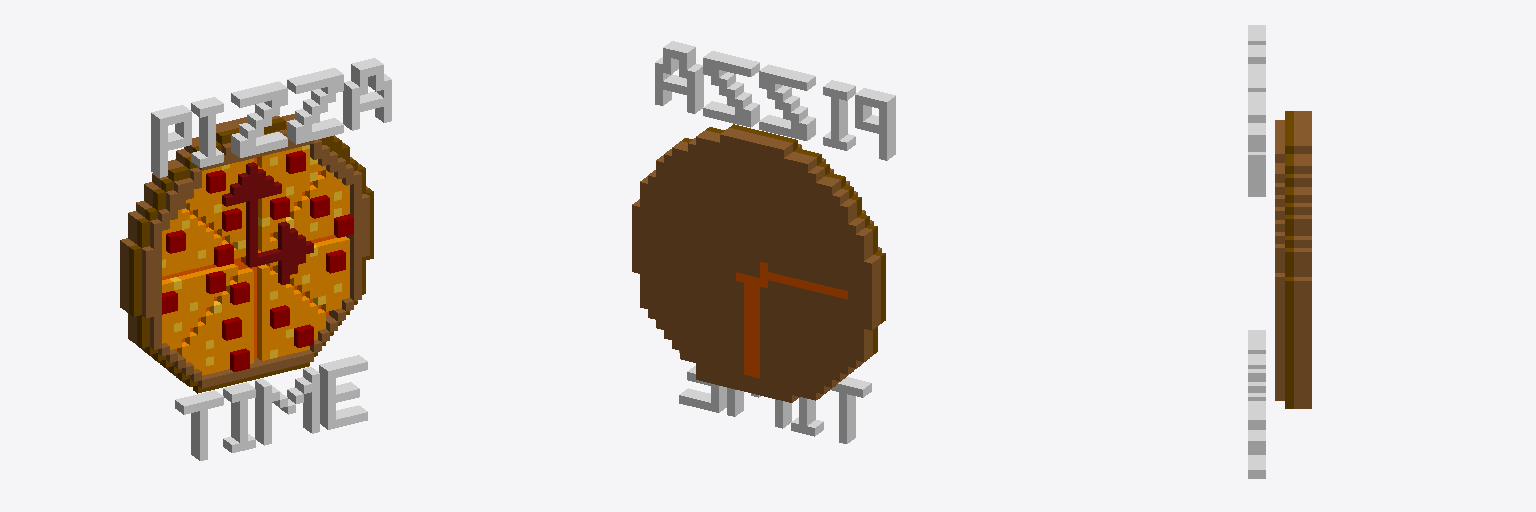
3 views of the same model, side by side, from view 1: azimuth 30°, elevation 25°; view 2: azimuth 150°, elevation 25°; view 3: azimuth 270°, elevation 25° (orthographic).
Visible parts, largest first — view 1: object 1; view 2: object 1; view 3: object 1.
Boxes of the visible parts, box(x1,y1,x2,y2) form: object 1: box(120, 58, 391, 460); object 1: box(632, 41, 895, 443); object 1: box(1248, 25, 1311, 478).
Size of the model in its own units: 3 by 4.2 by 0.7.
Materials: 1 (1 with a texture image).